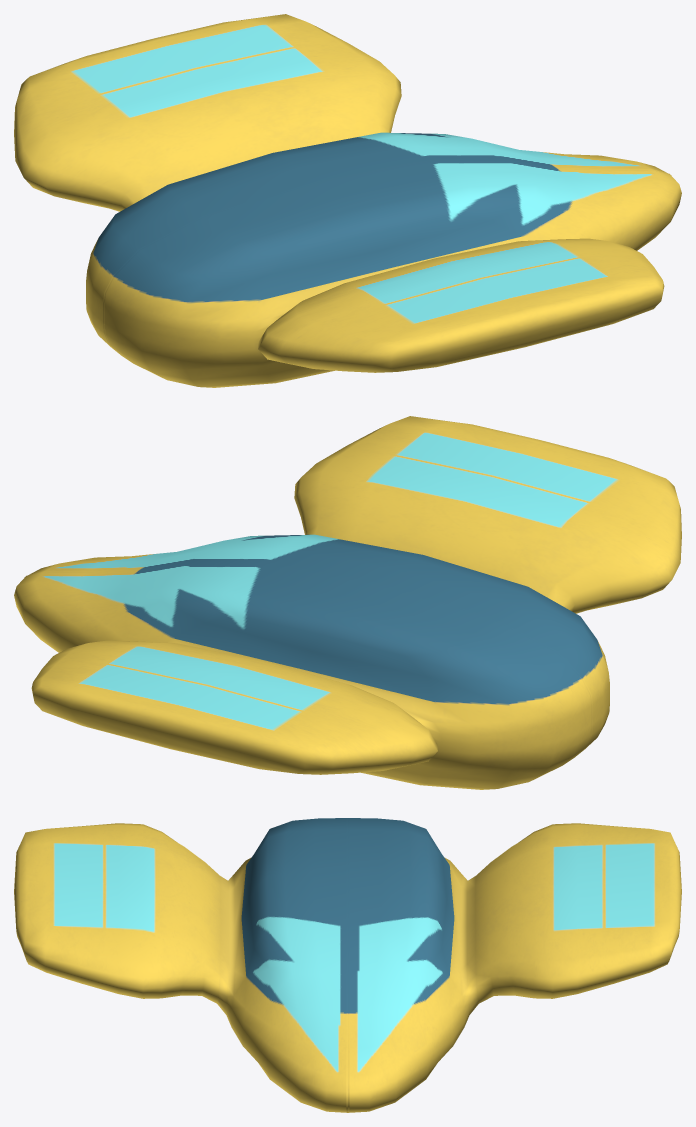
File: spaceShip_Van.fbx
3 renders of one model, top to bottom at view 1: azimuth 30°, elevation 25°; view 2: azimuth 150°, elevation 25°; view 3: azimuth 270°, elevation 25°, orthographic. The views are drawn at different scales.
Parts seen in each view (by area): view 1: Cube; view 2: Cube; view 3: Cube.
Boxes of the visible parts, x1,y1,x2,y2 form: Cube: (14, 14, 681, 387); Cube: (14, 416, 681, 789); Cube: (14, 818, 681, 1112).
Size of the model in its own units: 686 by 179 by 799.
